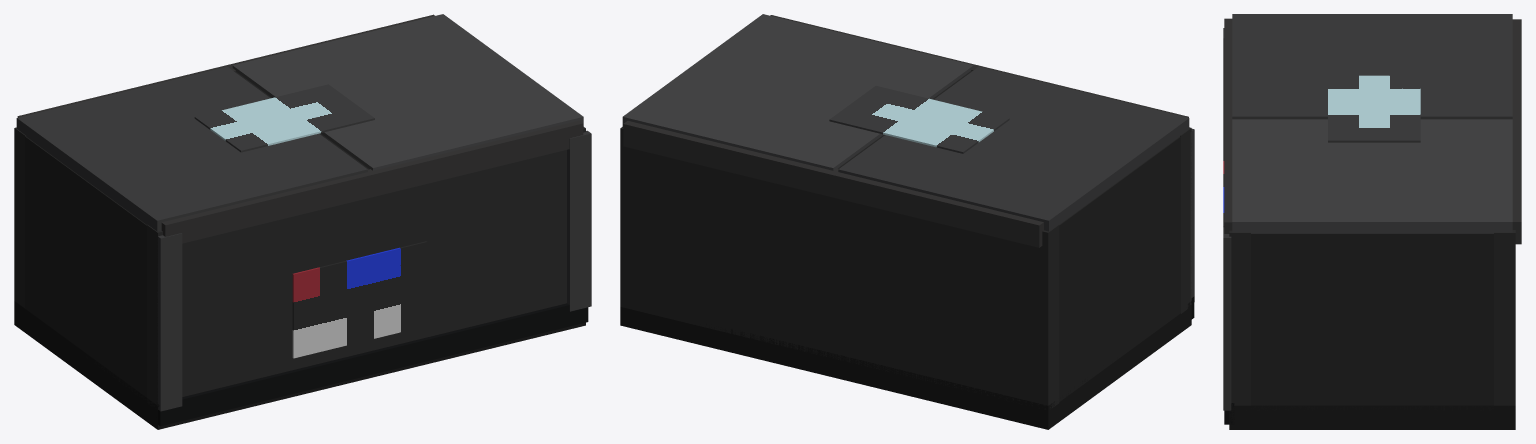
File: CMU3DTearGasPacketCloud.glb
3 renders of one model, left to right at view 1: azimuth 30°, elevation 25°; view 2: azimuth 150°, elevation 25°; view 3: azimuth 270°, elevation 25°, orthographic.
Parts seen in each view (by area): view 1: front cardboard wall, left top closure flap, right top closure flap, left folded cardboard wall, original red blue and pale front legend, front lid folded lip, front bottom rolled seam, exact original pale lid symbol, carton bottom, left vertical fold edge, right vertical fold edge, back cardboard wall (+1 smaller); view 2: back cardboard wall, left top closure flap, right top closure flap, left folded cardboard wall, carton bottom, rear lid folded lip, exact original pale lid symbol, front cardboard wall, left vertical fold edge, front lid folded lip; view 3: right folded cardboard wall, right top closure flap, left top closure flap, carton bottom, exact original pale lid symbol, back cardboard wall, front cardboard wall, rear lid folded lip, front lid folded lip, right vertical fold edge.
Boxes of the visible parts, x1,y1,x2,y2 form: front cardboard wall: (147, 127, 585, 406); left top closure flap: (16, 66, 367, 231); right top closure flap: (232, 14, 583, 170); left folded cardboard wall: (25, 136, 146, 399); original red blue and pale front legend: (292, 241, 427, 358); front lid folded lip: (161, 120, 583, 243); front bottom rolled seam: (156, 303, 588, 426); exact original pale lid symbol: (194, 84, 374, 152); carton bottom: (14, 301, 585, 429); left vertical fold edge: (157, 233, 182, 411); right vertical fold edge: (567, 130, 591, 311); back cardboard wall: (14, 127, 26, 308); back cardboard wall: (620, 127, 1059, 409); left top closure flap: (838, 66, 1189, 231); right top closure flap: (622, 14, 973, 170); left folded cardboard wall: (1059, 136, 1180, 401); carton bottom: (620, 301, 1191, 429); rear lid folded lip: (623, 121, 1043, 247); exact original pale lid symbol: (829, 85, 1009, 153); front cardboard wall: (1180, 127, 1191, 313); left vertical fold edge: (1190, 128, 1194, 304); front lid folded lip: (770, 15, 1188, 117); right folded cardboard wall: (1251, 233, 1493, 410); right top closure flap: (1232, 119, 1512, 233); left top closure flap: (1232, 14, 1512, 119); carton bottom: (1229, 405, 1515, 429); exact original pale lid symbol: (1328, 75, 1420, 142); back cardboard wall: (1494, 230, 1515, 405); front cardboard wall: (1229, 230, 1250, 405); rear lid folded lip: (1512, 19, 1521, 244); front lid folded lip: (1224, 18, 1232, 233); right vertical fold edge: (1223, 227, 1231, 410).
Bounding box in the file's own units: 0.503 × 0.235 × 0.302.
Materials: 9 (2 with a texture image).
